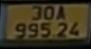.: (52, 34, 55, 37)
0: (44, 5, 54, 21)
2: (57, 22, 68, 38)
3: (32, 5, 43, 21)
4: (69, 22, 80, 37)
5: (41, 22, 51, 38)
9: (15, 22, 26, 39), (28, 22, 39, 38)
A: (56, 6, 66, 21)
